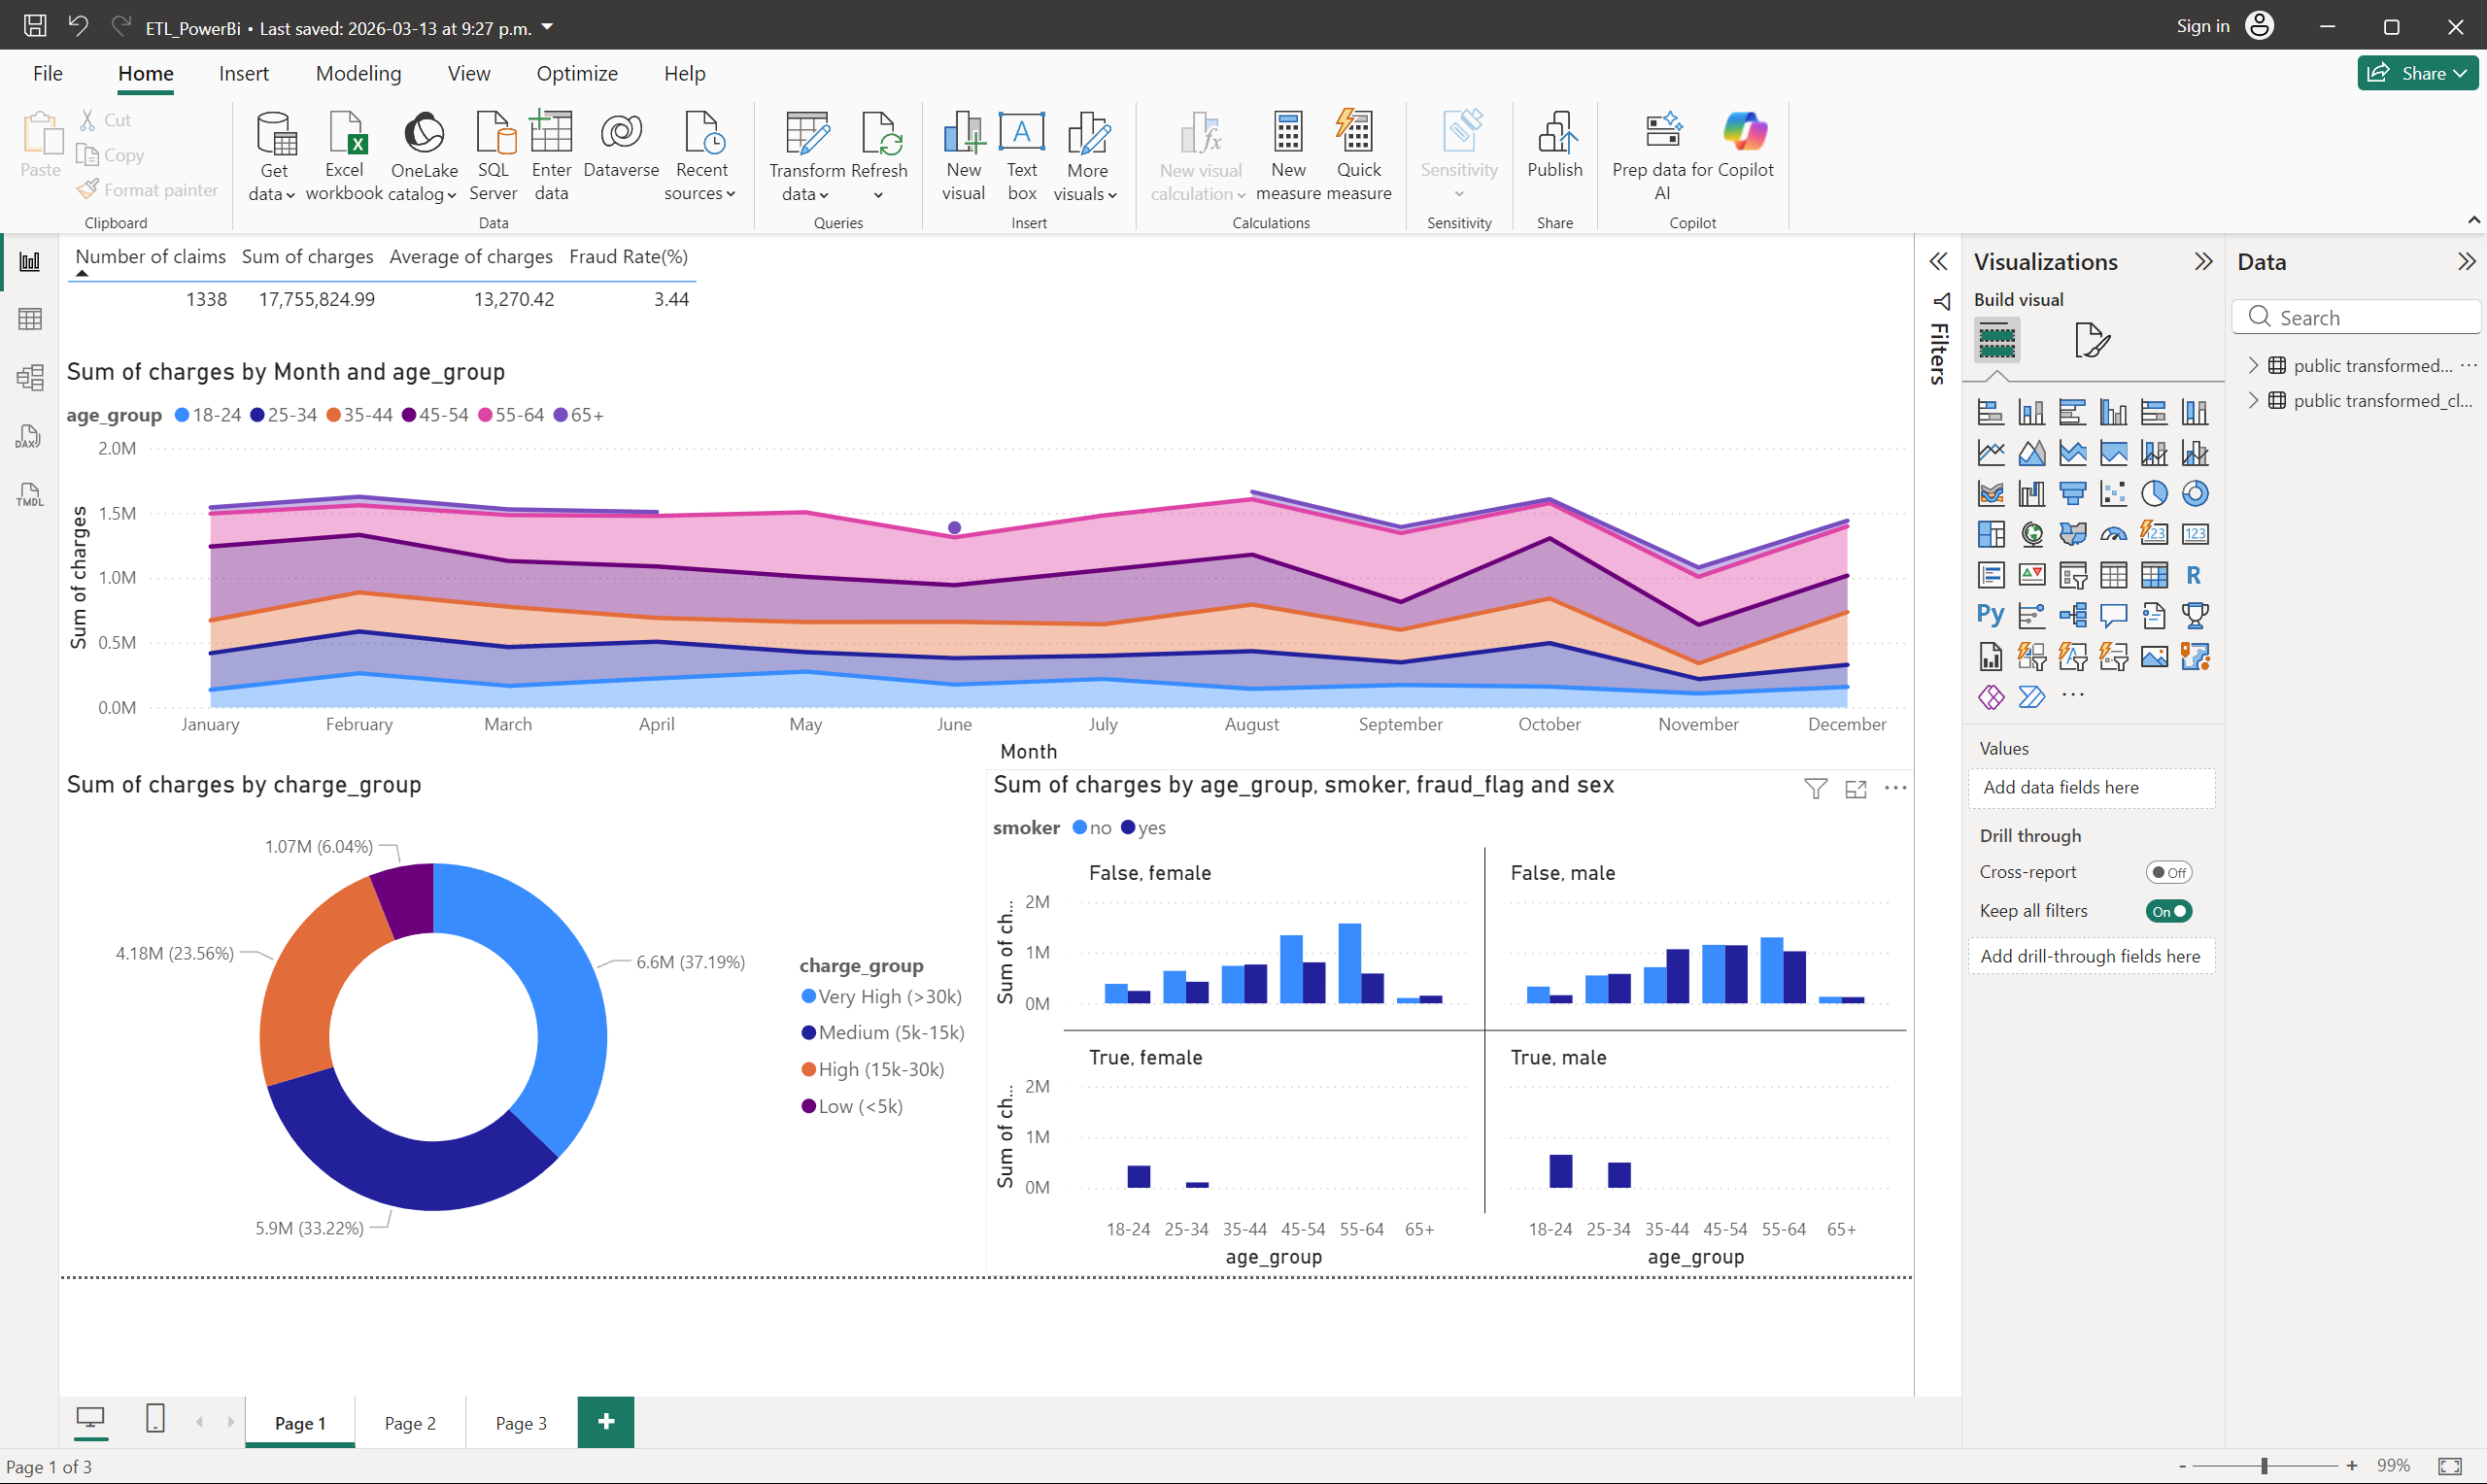

The dashboard page shown, as its layout file describes it:
{"tool":"powerbi","page":{"name":"Page 1","canvas":[1280,720],"ordinal":0},"visuals":[{"type":"stackedAreaChart","fields":{"Y":["Sum(public transformed_claims.charges)"],"Series":["public transformed_claims.age_group"],"Category":["public transformed_claims.claim_date.Variation.Date Hierarchy.Month"]},"box":[0,85.3,1280,284.7],"z":0},{"type":"clusteredColumnChart","fields":{"Category":["public transformed_claims.age_group"],"Y":["Sum(public transformed_claims.charges)"],"Series":["public transformed_claims.smoker"],"Rows":["public transformed_claims.fraud_flag","public transformed_claims.sex"]},"box":[640,370,640,350],"z":1000},{"type":"tableEx","fields":{"Values":["CountNonNull(public transformed_claims.id)","Sum(public transformed_claims.charges)","Avg(public transformed_claims.charges)","public transformed_claims.Fraud Rate(%)"]},"box":[0,0,578,85.3],"z":2000},{"type":"donutChart","fields":{"Category":["public transformed_claims.charge_group"],"Y":["Sum(public transformed_claims.charges)"]},"box":[0,370,640,350],"z":3000}]}

Visuals, with their boxes on the page's 1280x720 design canvas (x1, y1, x2, y2). These are canvas units, not pixel positions in the 2487x1484 screenshot, which may show the page scaled, cropped or inside an application window:
stackedAreaChart - Sum(public transformed_claims.charges) x public transformed_claims.age_group: locate(0, 85, 1280, 370)
clusteredColumnChart - public transformed_claims.age_group x Sum(public transformed_claims.charges): locate(640, 370, 1280, 720)
tableEx - CountNonNull(public transformed_claims.id) x Sum(public transformed_claims.charges): locate(0, 0, 578, 85)
donutChart - public transformed_claims.charge_group x Sum(public transformed_claims.charges): locate(0, 370, 640, 720)
